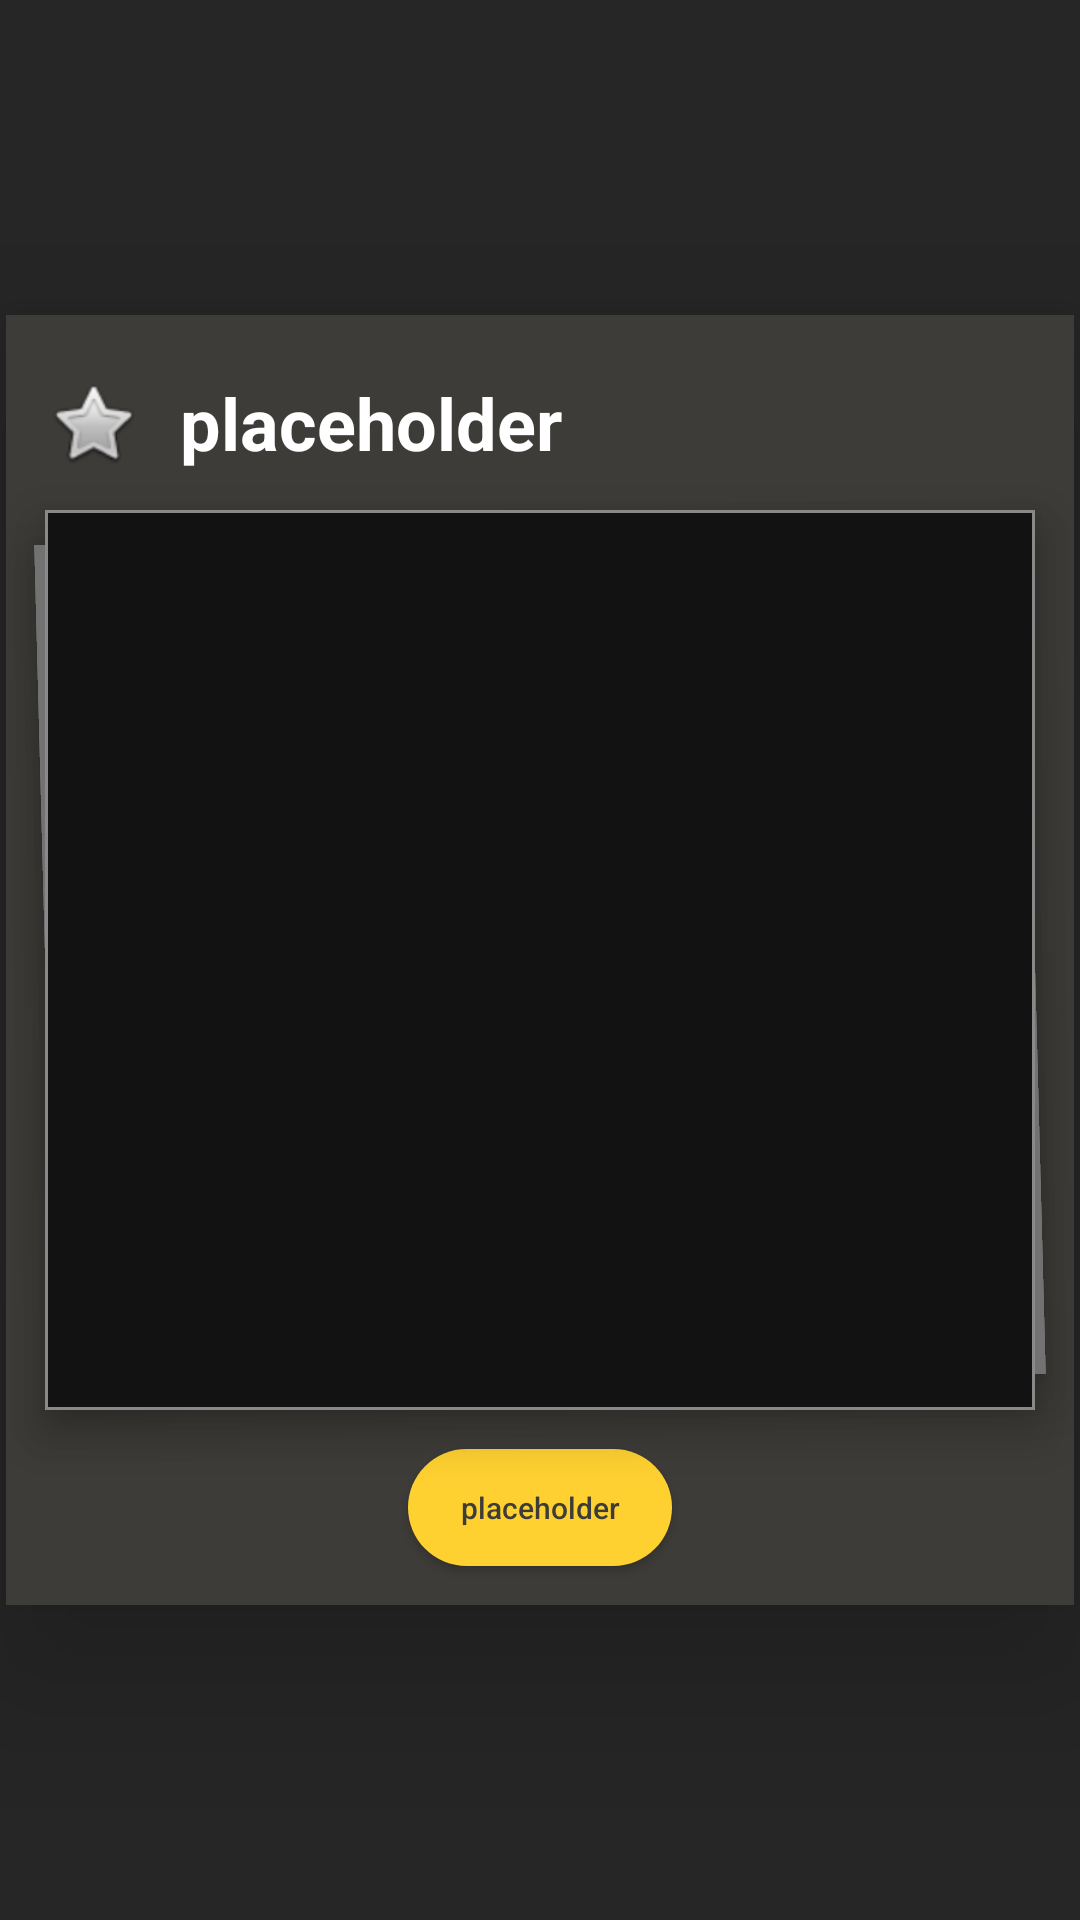

Screen size 1080*1920. Icon name, then its box in pixels as (x1, y1, x2, y2):
star: (56, 386, 132, 459)
